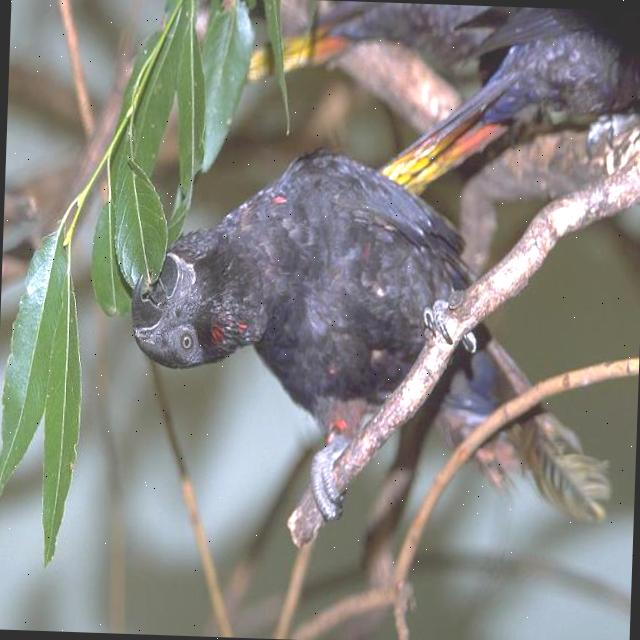Nuri Hitam: (115, 132, 626, 550), (370, 2, 640, 225), (226, 0, 512, 92)
